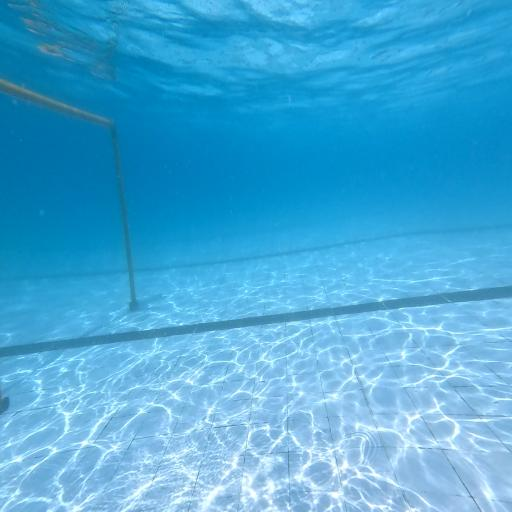gate: (0, 78, 161, 362)
